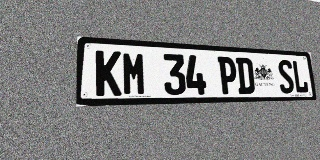3: (163, 54, 186, 95)
4: (185, 55, 207, 95)
D: (236, 57, 255, 94)
K: (96, 50, 122, 96)
L: (292, 60, 309, 93)
M: (122, 52, 147, 96)
P: (217, 56, 238, 94)
S: (277, 59, 295, 93)
